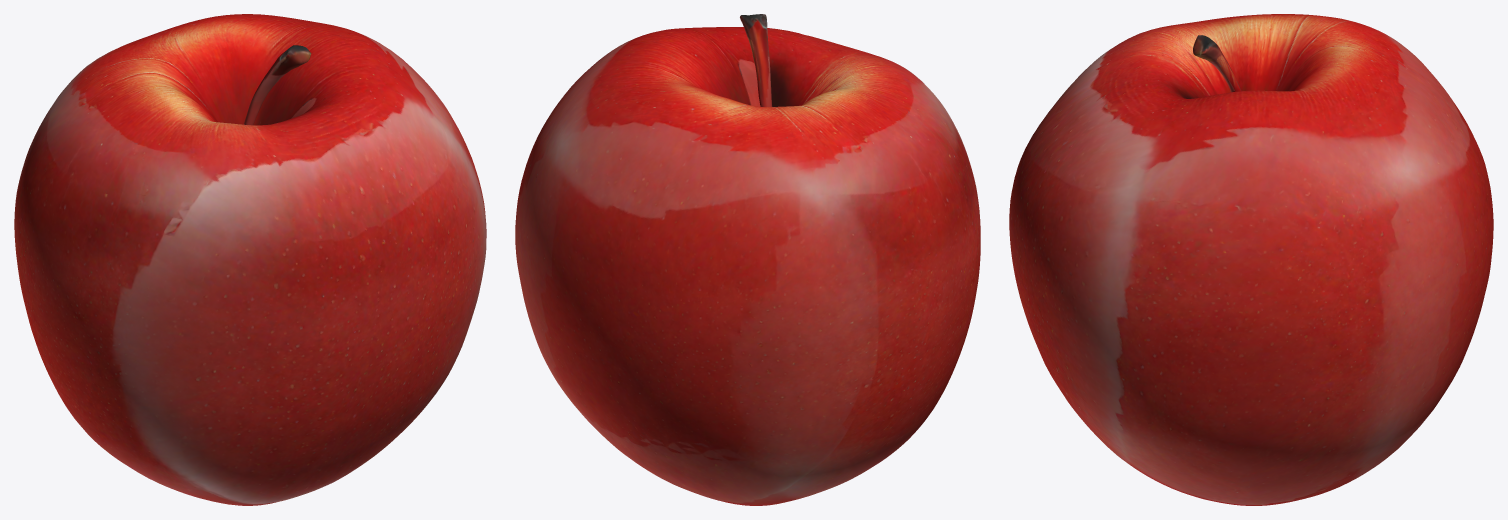
File: Apple.fbx
The picture shows the model from 3 angles, left to right: view 1: azimuth 30°, elevation 25°; view 2: azimuth 150°, elevation 25°; view 3: azimuth 270°, elevation 25°; orthographic projection. The views are drawn at different scales.
Parts seen in each view (by area): view 1: Mesh1_Mesh1.002; view 2: Mesh1_Mesh1.002; view 3: Mesh1_Mesh1.002.
Part boxes in pixels (x1,y1,x2,y2): Mesh1_Mesh1.002: (14, 14, 486, 505); Mesh1_Mesh1.002: (515, 14, 980, 505); Mesh1_Mesh1.002: (1009, 14, 1493, 505).
Size of the model in its own units: 196 by 200 by 197.
Materials: 1 (1 with a texture image).
